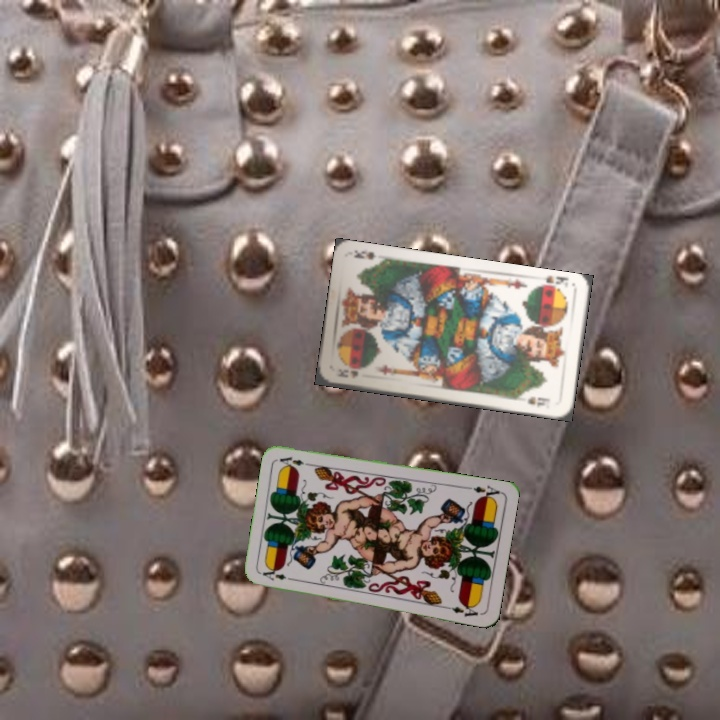EA: (463, 481, 503, 503), (258, 568, 298, 583)
SK: (542, 272, 571, 287), (333, 366, 361, 380)
